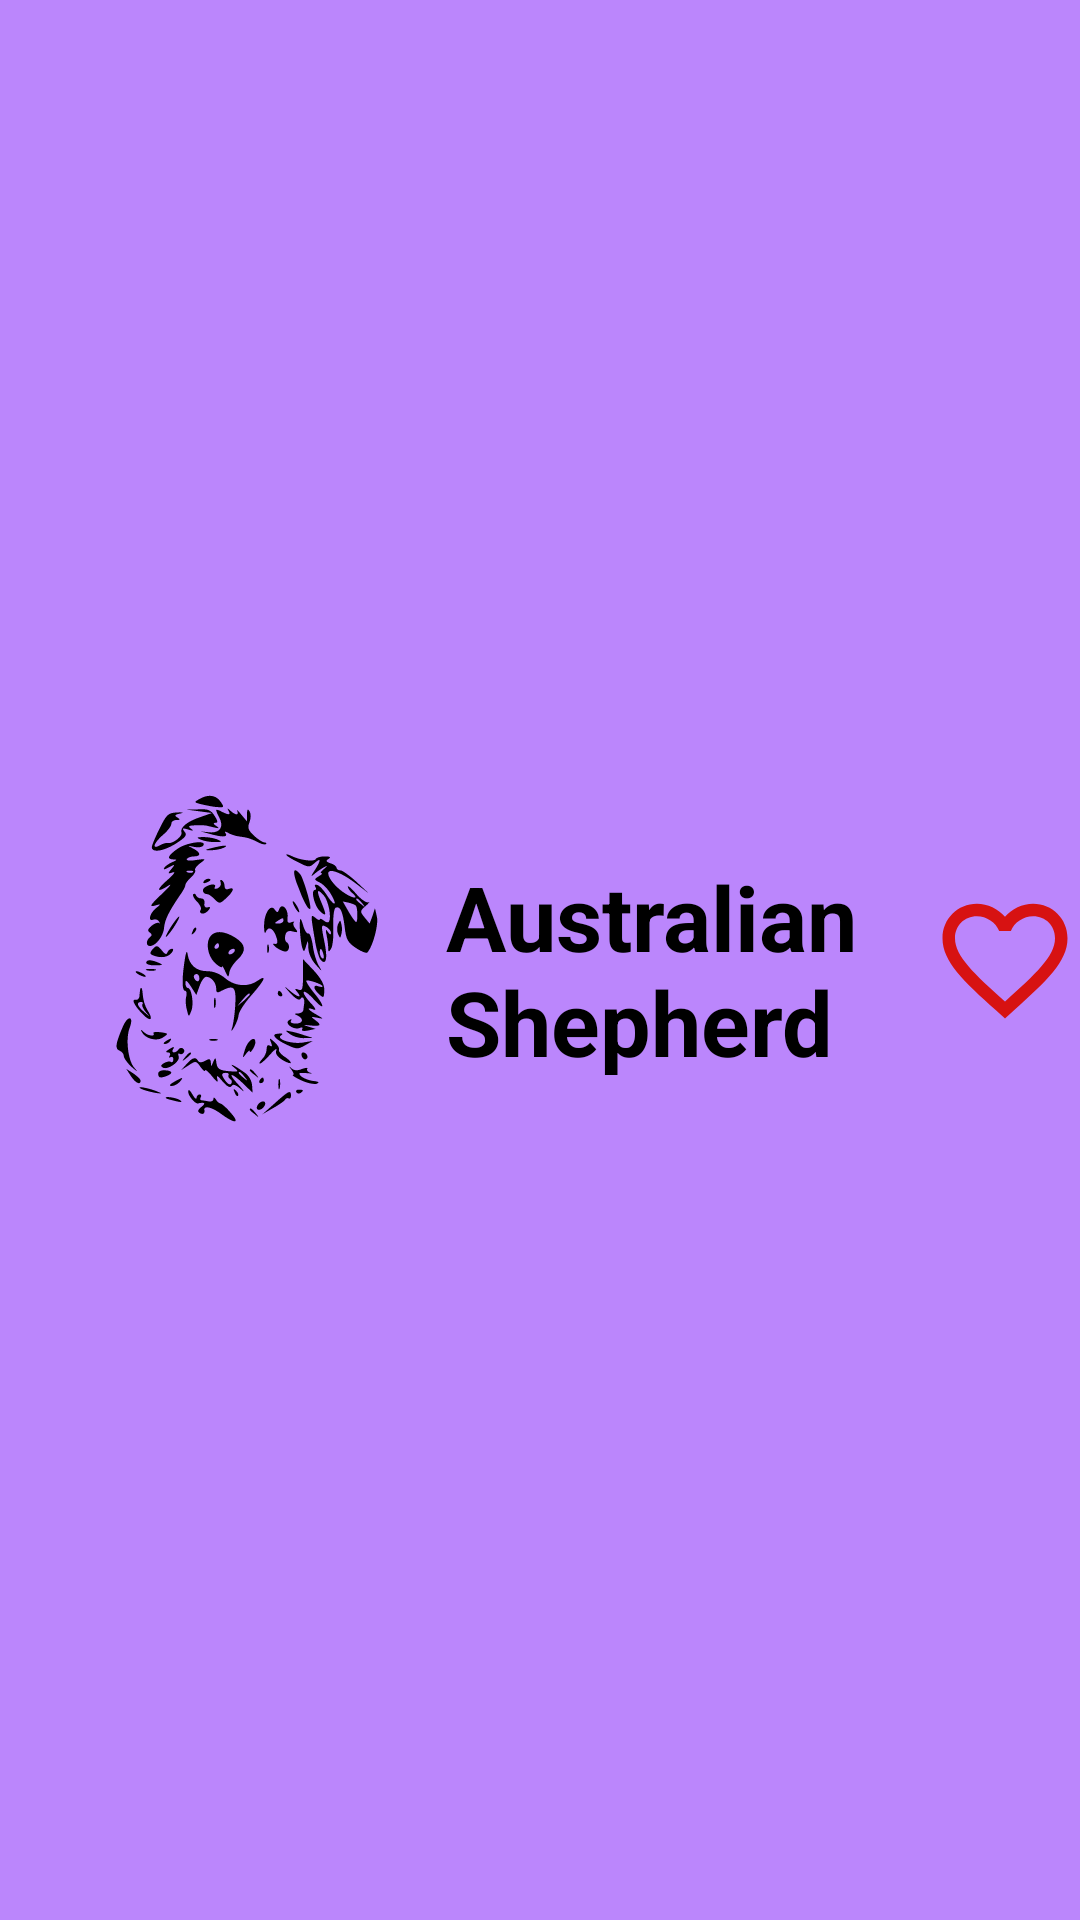

Icon bounding boxes for this 1080 x 1920 phone screenshot, format (x1, y1, x2, y2):
favorite border: (942, 903, 1068, 1019)
